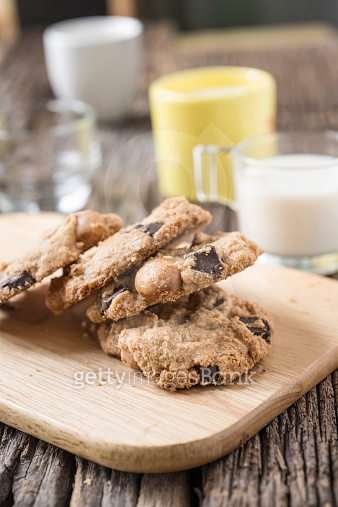glass of milk: (197, 123, 338, 260)
